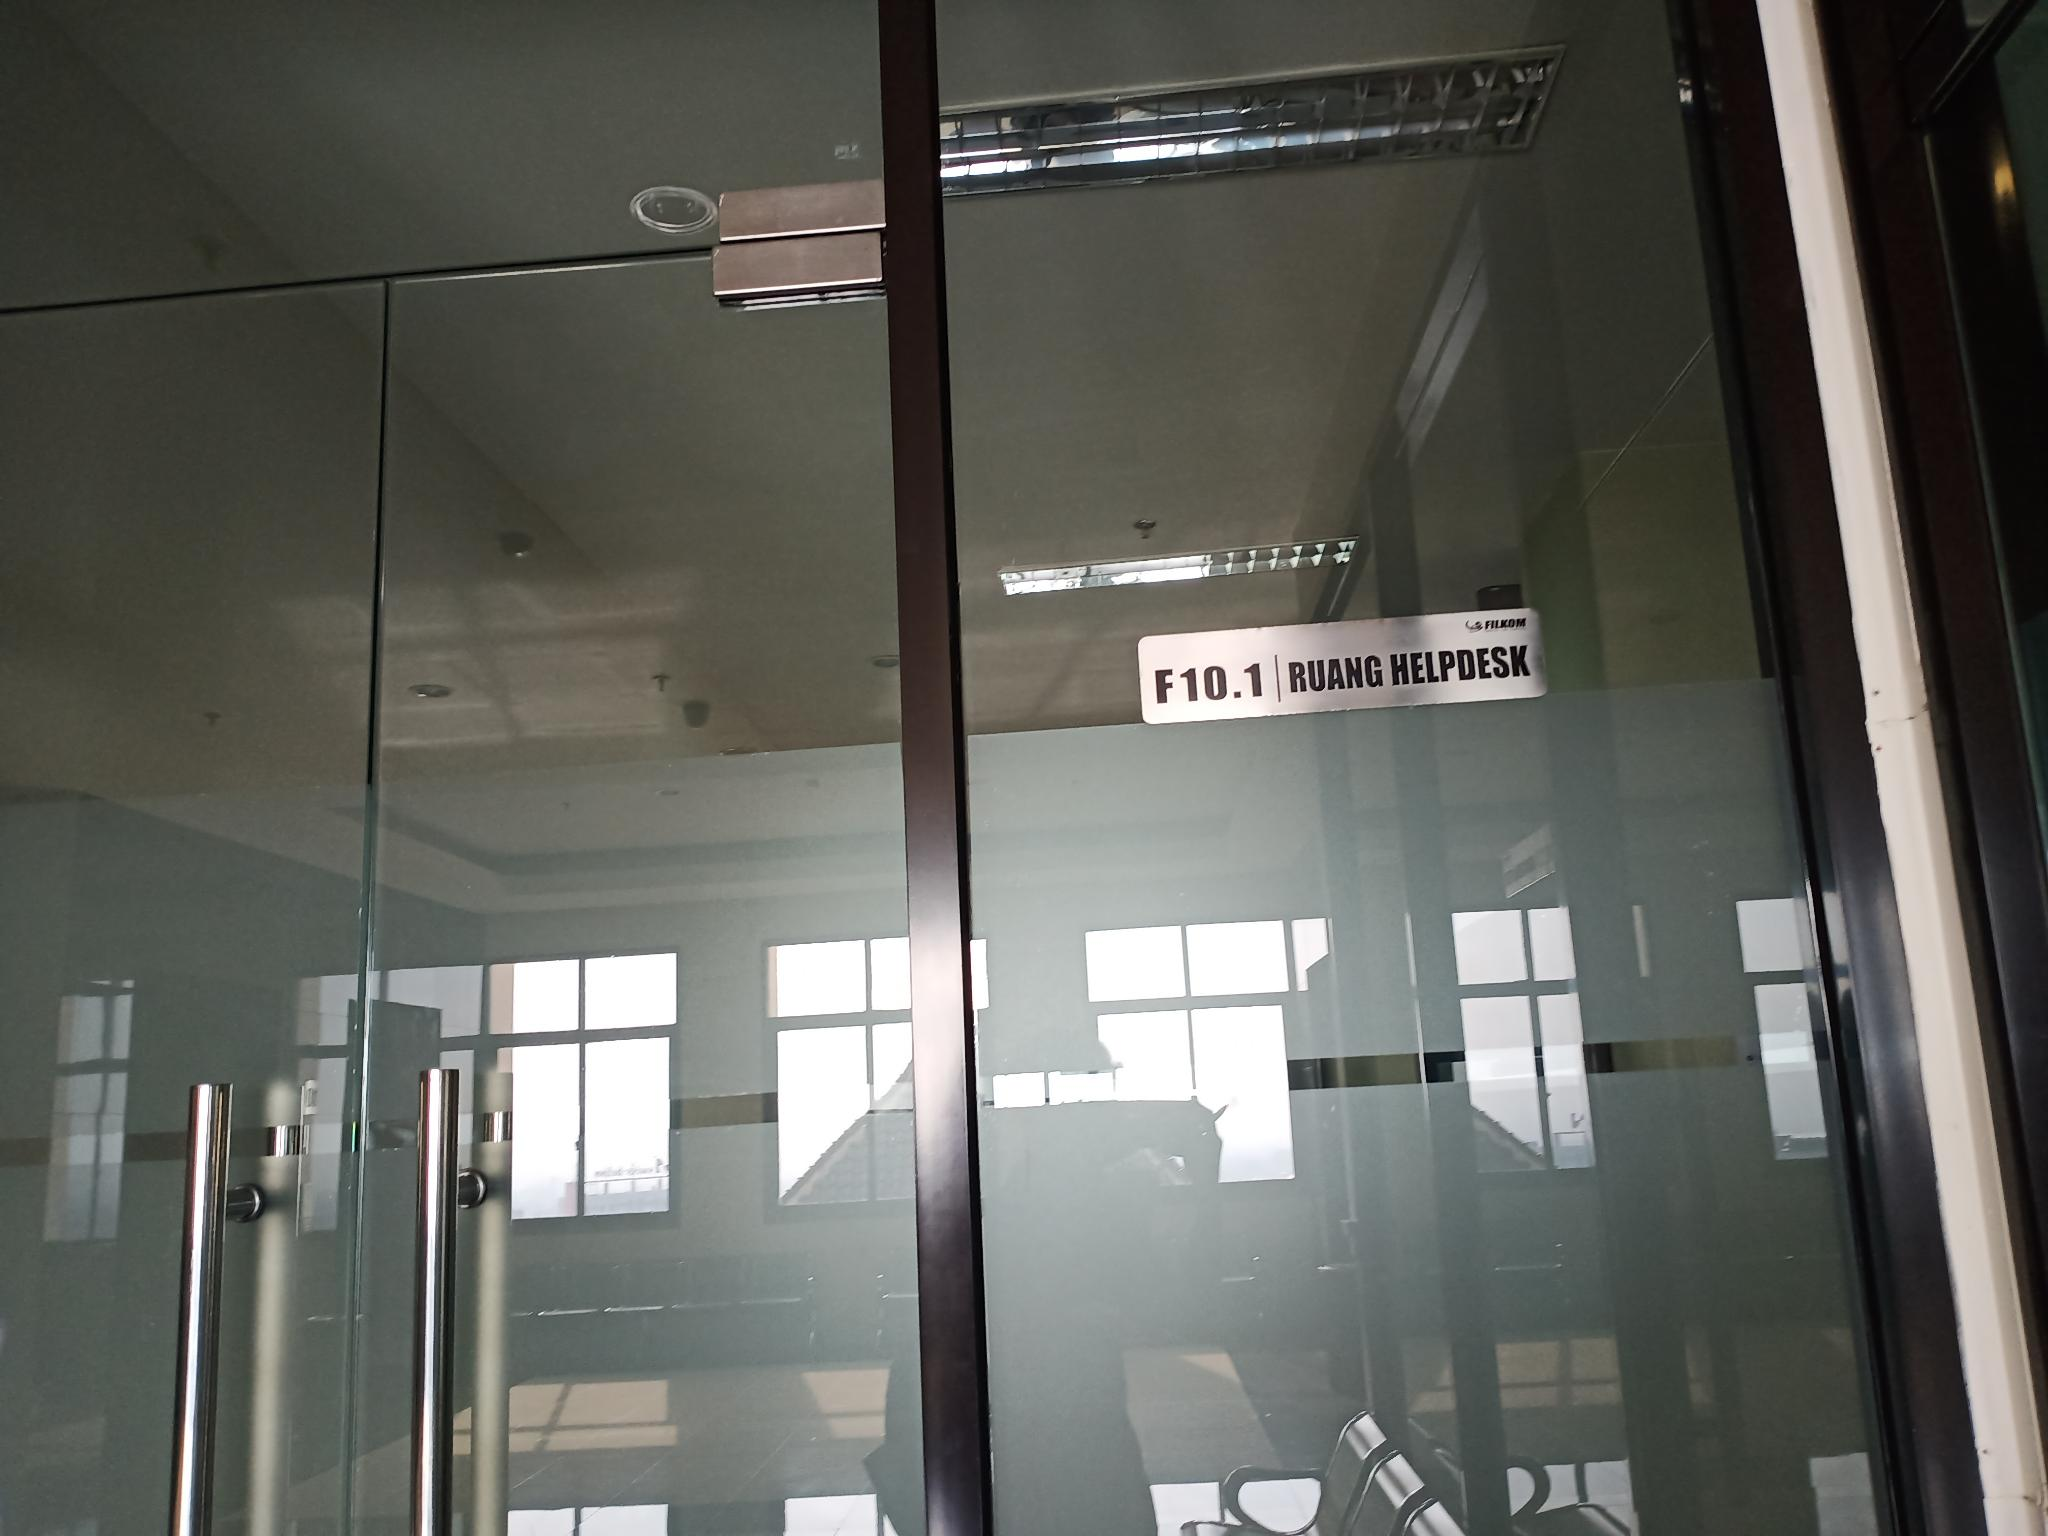plate: (1135, 603, 1550, 729)
